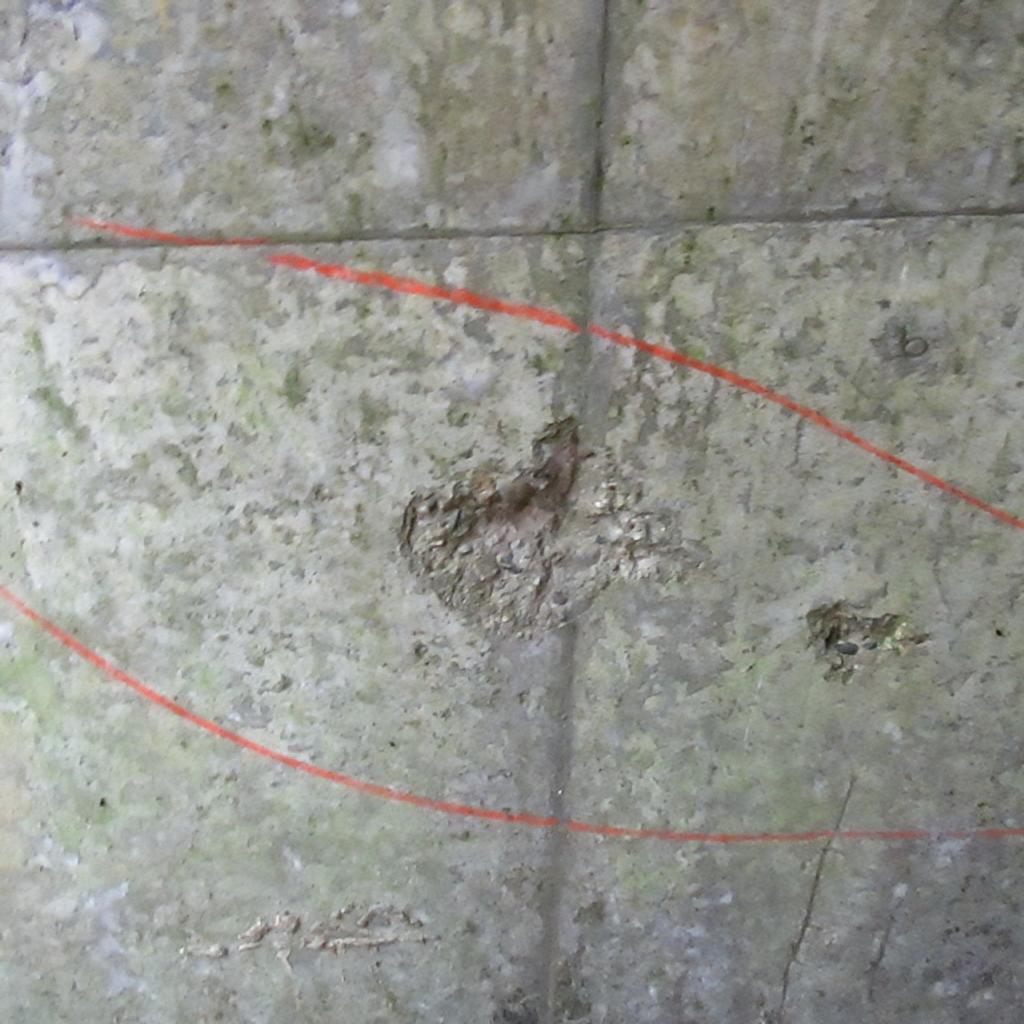spalling: (400, 418, 708, 635), (806, 600, 928, 681)
